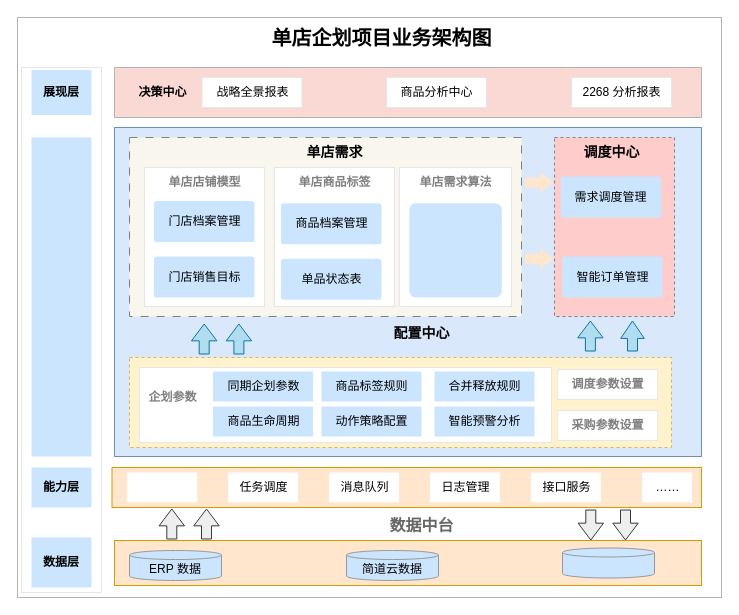
Image size: 739x615. Some labels were removed from this diagram. The centre of each missing label's shape, as x and y in pixels:
云集数据: point (608, 562)
应用层: point (61, 296)
规则引擎: point (161, 487)
门店批次需求: point (455, 250)
